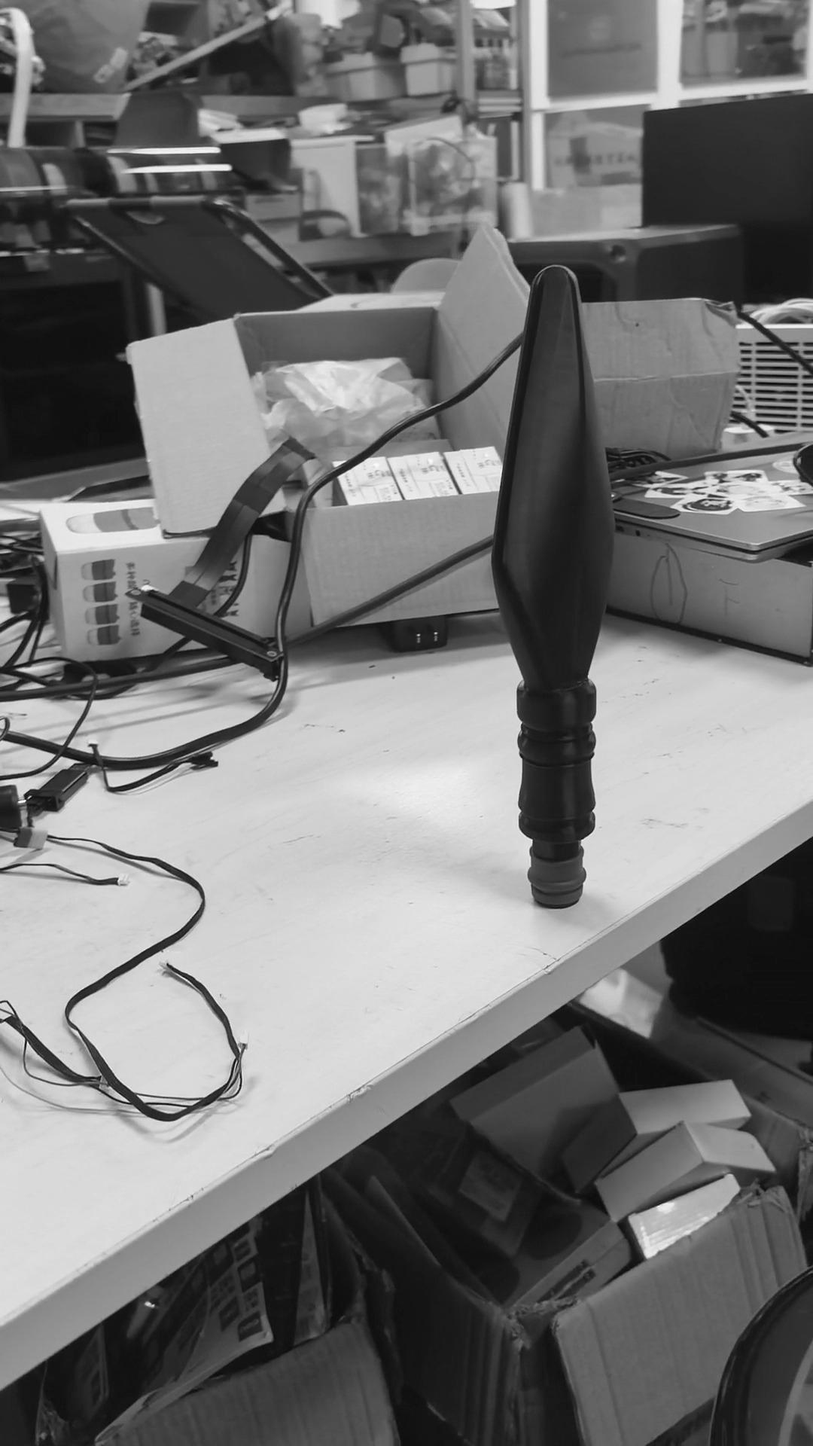base: (524, 844, 595, 914)
